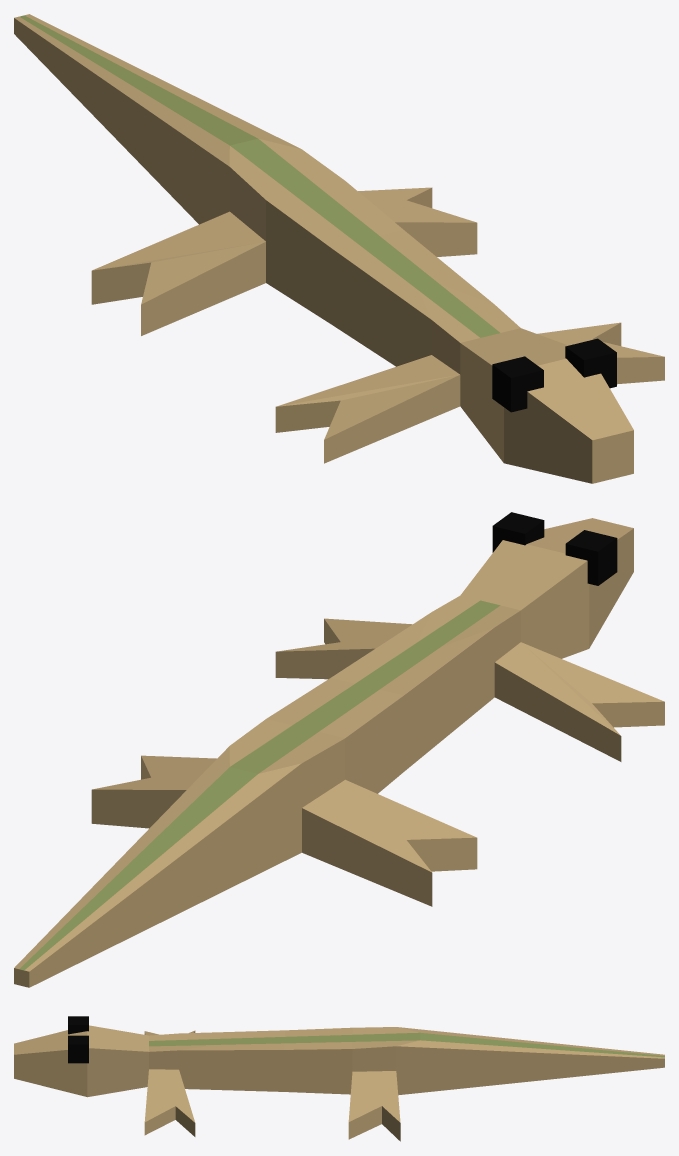
File: item_dry_lizard.fbx
3 views of the same model, one above another, from view 1: azimuth 30°, elevation 25°; view 2: azimuth 150°, elevation 25°; view 3: azimuth 270°, elevation 25° (orthographic). The views are drawn at different scales.
Parts seen in each view (by area): view 1: item_dry_lizard; view 2: item_dry_lizard; view 3: item_dry_lizard.
Part boxes in pixels (x1,y1,x2,y2): item_dry_lizard: (14,14,664,483); item_dry_lizard: (14,512,664,987); item_dry_lizard: (14,1016,664,1141).
Bounding box in the file's own units: 809 × 267 × 2400.
